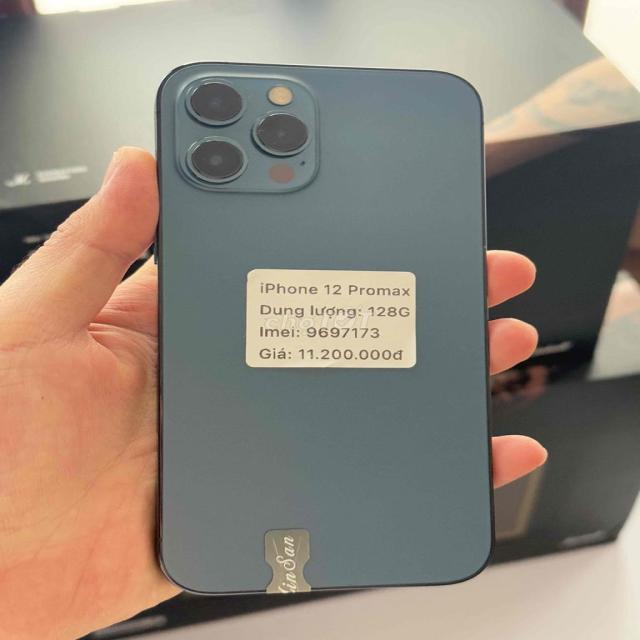gen_12_13: (148, 54, 498, 598)
